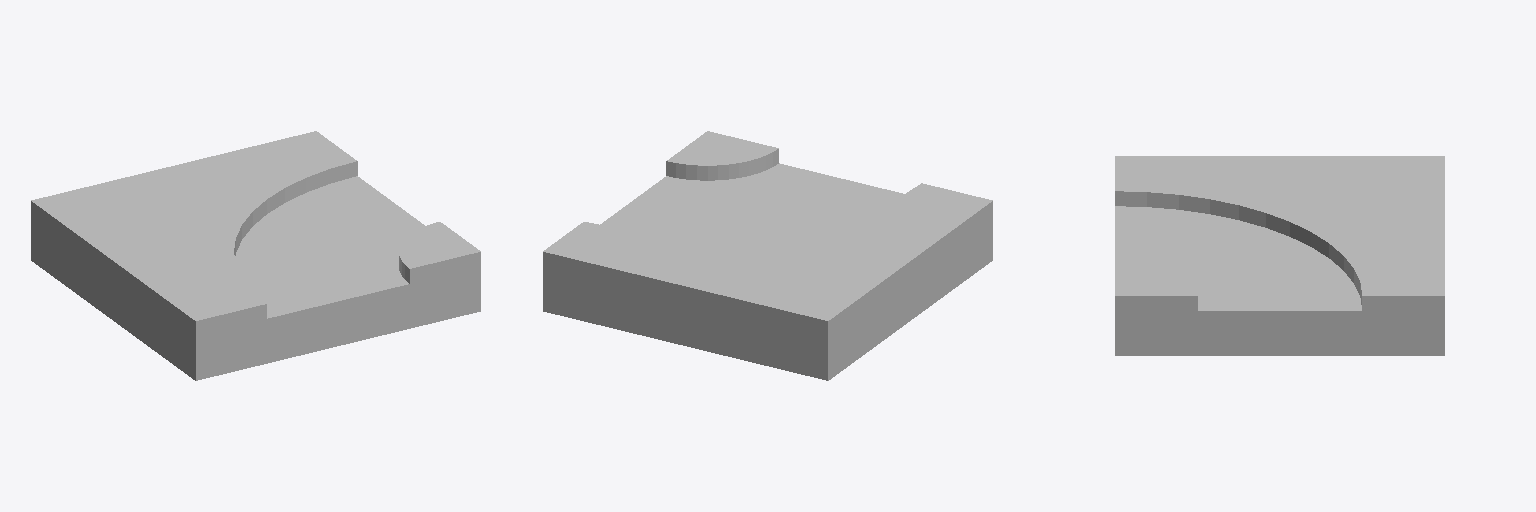
Rendered from RiverCornerRD.obj.
3 renders of one model, left to right at view 1: azimuth 30°, elevation 25°; view 2: azimuth 150°, elevation 25°; view 3: azimuth 270°, elevation 25°, orthographic.
Visible parts, largest first — view 1: RiverCornerRD; view 2: RiverCornerRD; view 3: RiverCornerRD.
Part boxes in pixels (x1,y1,x2,y2): RiverCornerRD: (31,131,480,380); RiverCornerRD: (543,131,992,380); RiverCornerRD: (1115,156,1444,355).
Bounding box in the file's own units: 1 × 0.2 × 1.